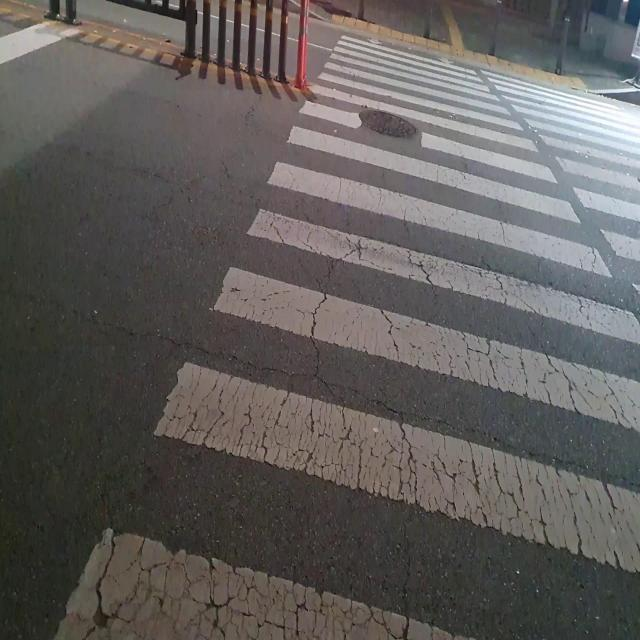crosswalk: (57, 31, 640, 640)
